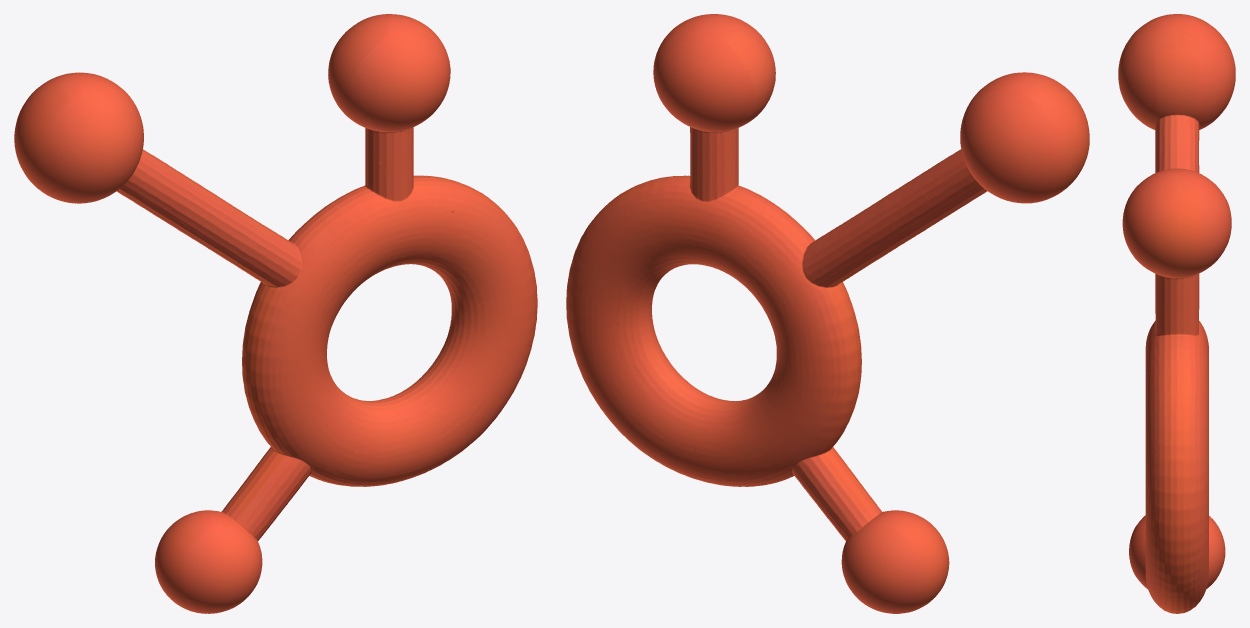
The model's file is hubspot.glb.
The picture shows the model from 3 angles, left to right: view 1: azimuth 30°, elevation 25°; view 2: azimuth 150°, elevation 25°; view 3: azimuth 270°, elevation 25°; orthographic projection. The views are drawn at different scales.
Parts seen in each view (by area): view 1: material.001; view 2: material.001; view 3: material.001.
Part boxes in pixels (x1=…): material.001: x1=14, y1=14, x2=537, y2=613; material.001: x1=566, y1=14, x2=1089, y2=613; material.001: x1=1118, y1=14, x2=1235, y2=613.
Bounding box in the file's own units: 0.8841 × 0.9276 × 0.1917.
Materials: 1 (1 with a texture image).
